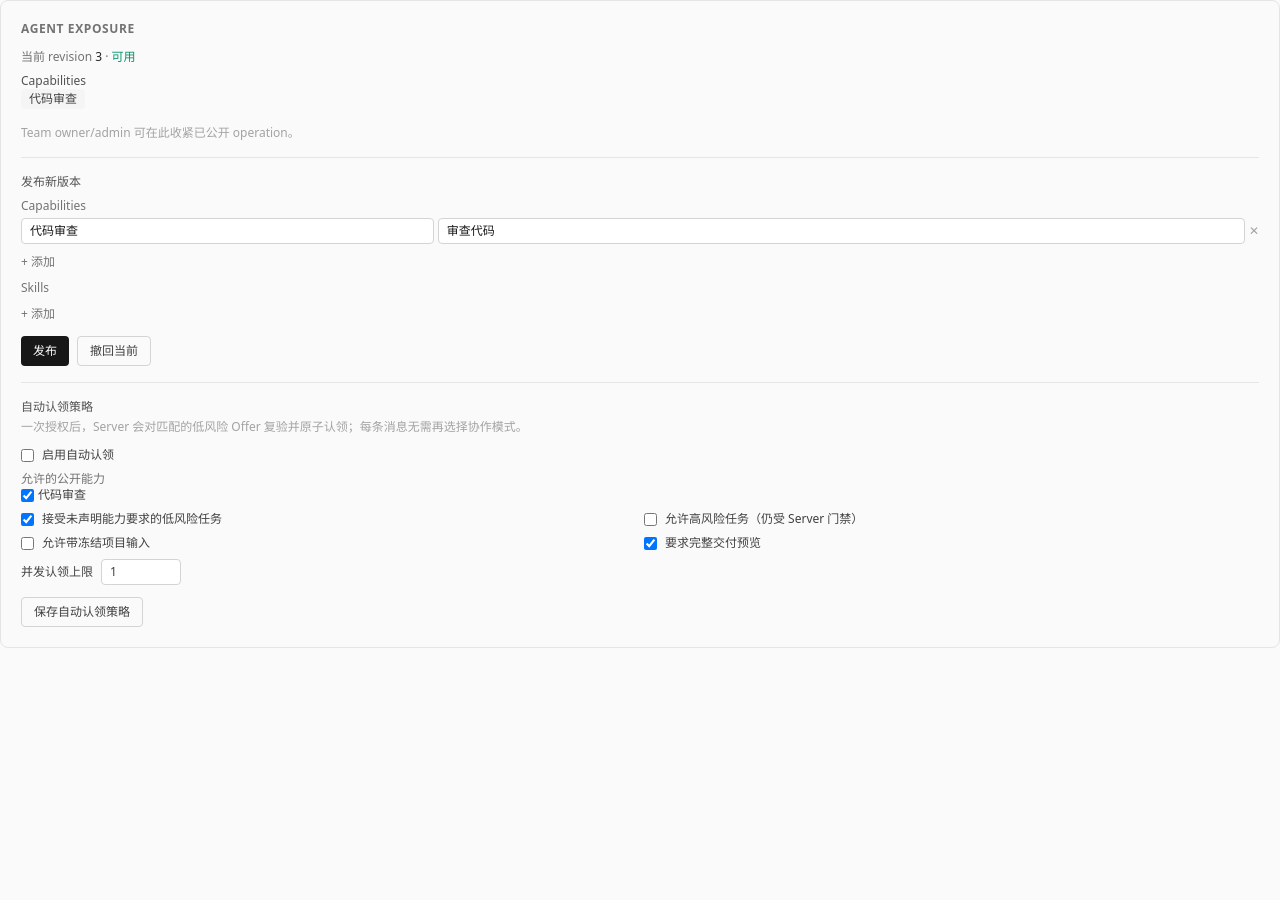
it: Agent auto-accept policy panel (#1270) › owner 一次授权公开能力后，后续消息无需 composer 协作开关
The image size is (1280, 900).
Expected: the text "自动认领策略" is shown, [21,398,93,415]
Expected: the checkbox labelled "代码审查" is checked, [21,488,34,502]
Click the checkbox labelled "启用自动认领" at (28, 455), box [21,448,34,462]
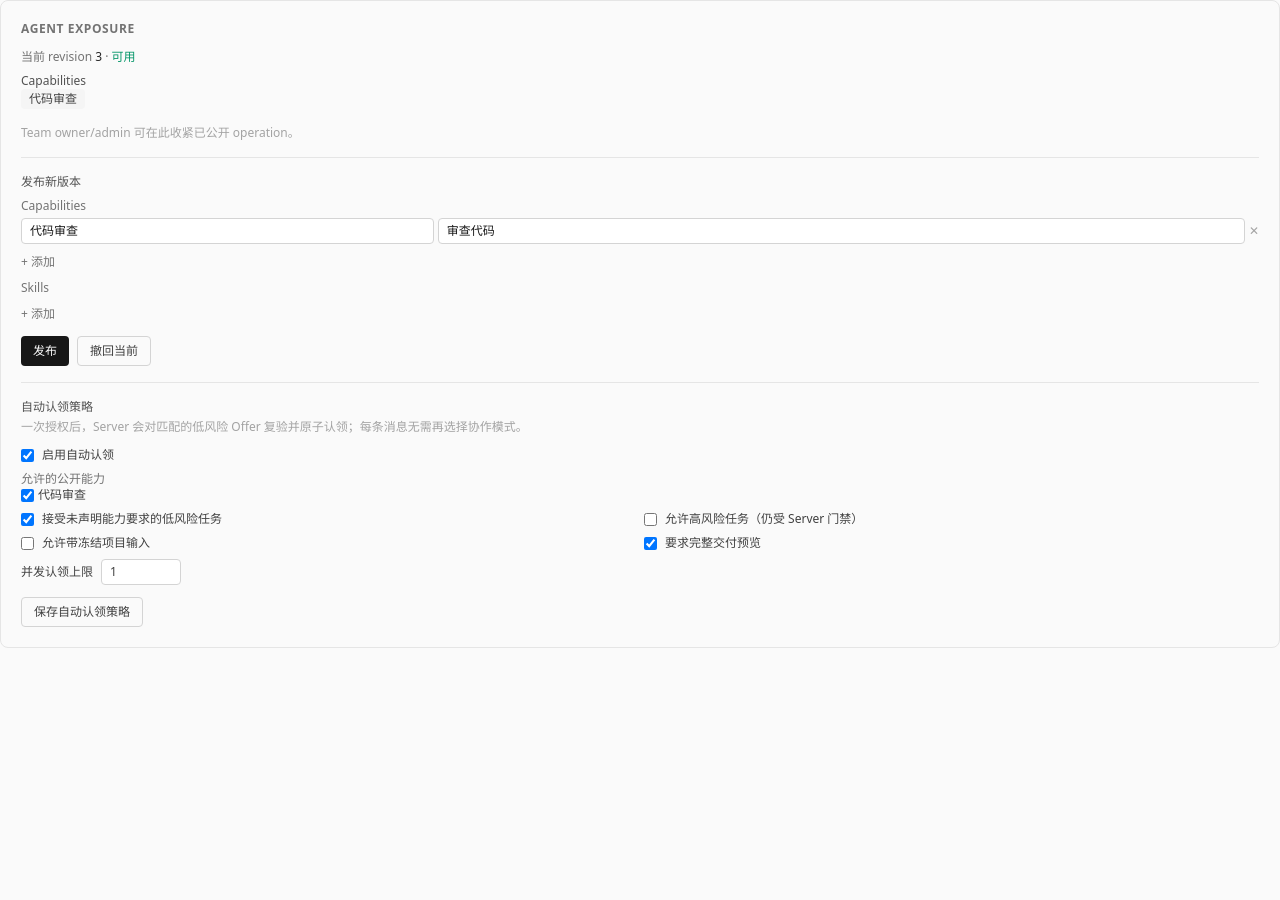
Click the button "保存自动认领策略" at (82, 612), box [21,597,143,627]
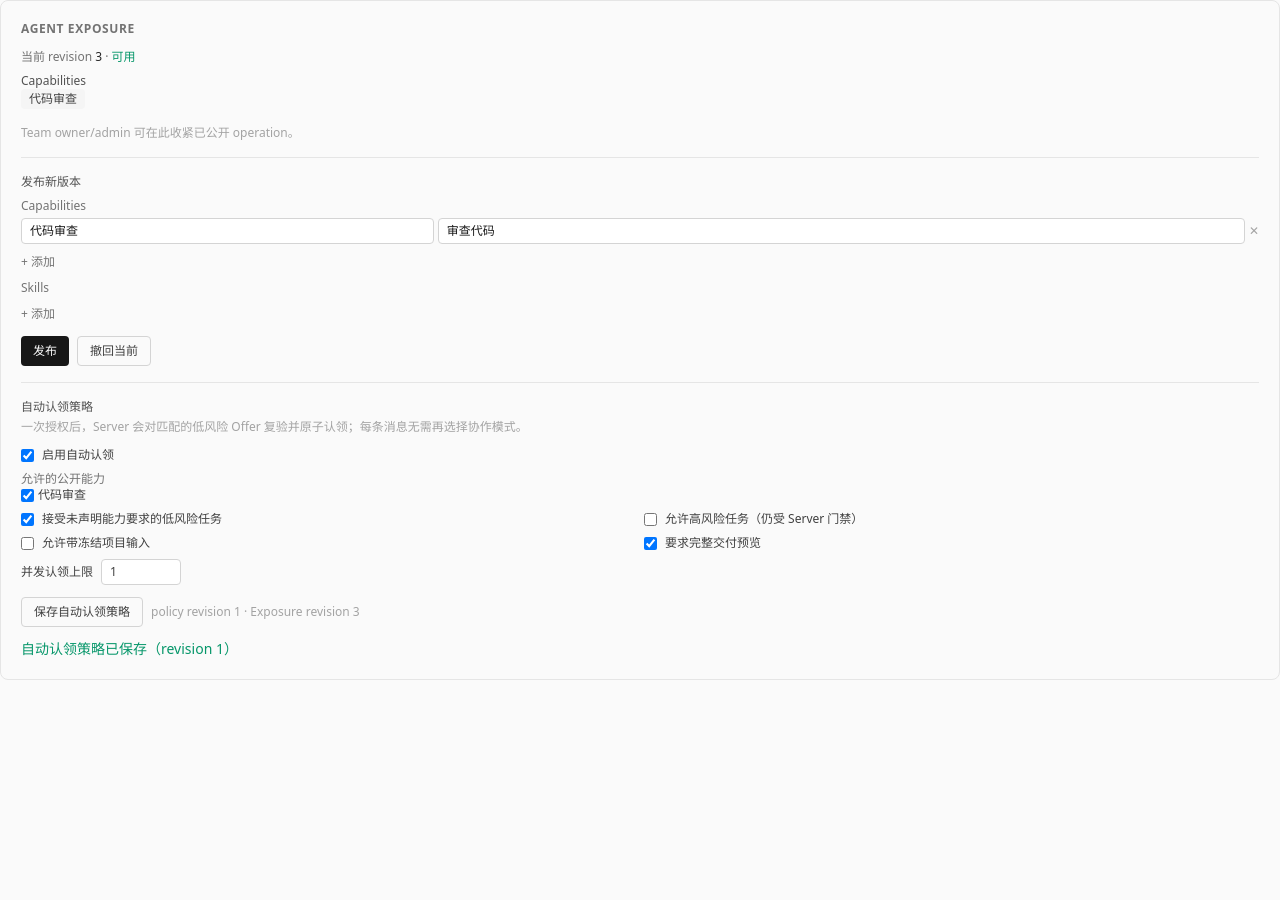
Expected: the text "自动认领策略已保存（revision 1）" is shown, [21,639,238,658]
